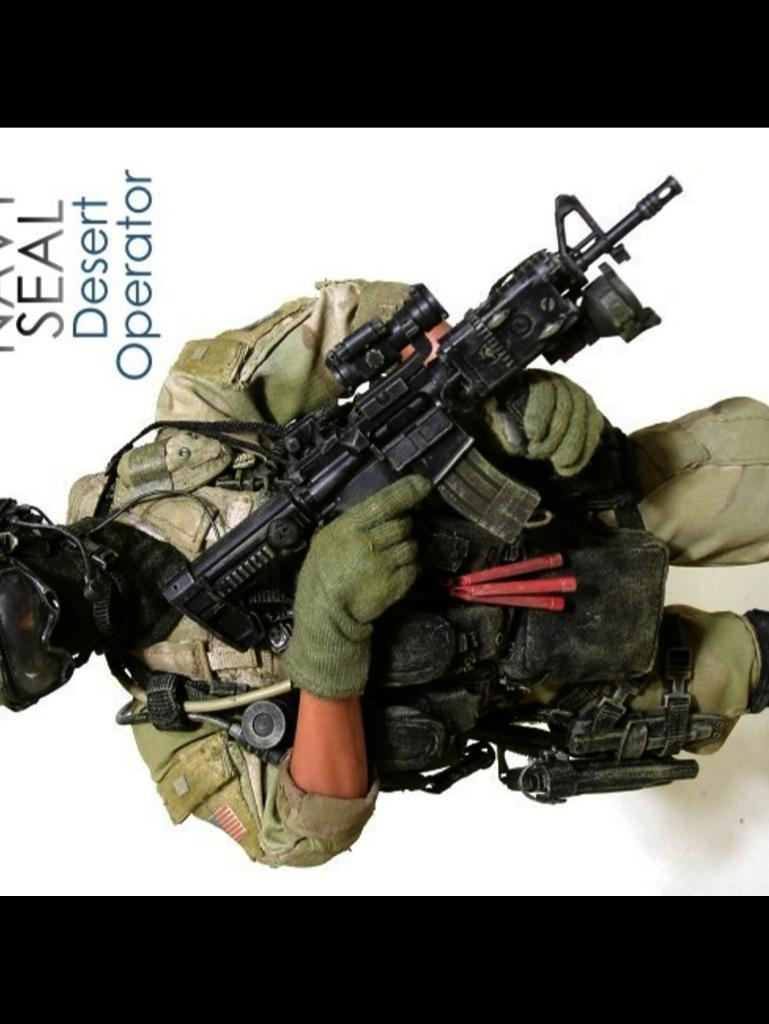gun: (156, 173, 680, 696)
